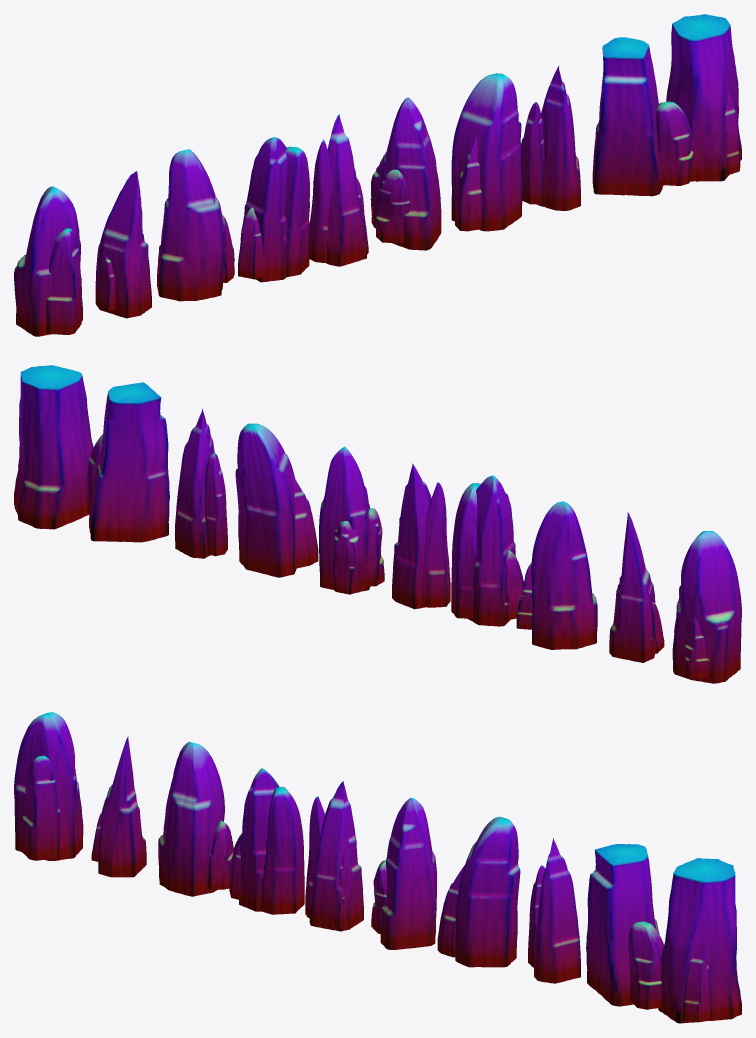
Rendered from mountains.glb.
3 views of the same model, one above another, from view 1: azimuth 30°, elevation 25°; view 2: azimuth 150°, elevation 25°; view 3: azimuth 330°, elevation 25° (orthographic).
Visible parts, largest first — view 1: mesa_0, peak_6, mesa_1, peak_2, peak_3, peak_0, peak_5, peak_4, peak_7, peak_1; view 2: mesa_0, mesa_1, peak_6, peak_3, peak_0, peak_2, peak_5, peak_4, peak_7, peak_1; view 3: mesa_1, mesa_0, peak_6, peak_2, peak_0, peak_3, peak_5, peak_4, peak_7, peak_1.
Part boxes in pixels (x1,y1,x2,y2): mesa_0: (592,37,693,196); peak_6: (451,73,522,231); mesa_1: (666,14,741,181); peak_2: (157,149,234,301); peak_3: (238,137,309,282); peak_0: (14,186,82,336); peak_5: (370,97,441,250); peak_4: (309,114,368,266); peak_7: (521,65,580,210); peak_1: (95,171,151,318); mesa_0: (87,382,169,542); mesa_1: (14,365,93,529); peak_6: (235,423,318,577); peak_3: (451,475,523,626); peak_0: (672,531,741,683); peak_2: (516,501,597,649); peak_5: (319,446,384,594); peak_4: (392,463,450,609); peak_7: (175,408,227,558); peak_1: (609,512,664,662); mesa_1: (658,858,741,1023); mesa_0: (586,844,663,1009); peak_6: (437,816,520,967); peak_2: (158,741,233,896); peak_0: (14,712,83,860); peak_3: (229,768,304,914); peak_5: (371,797,436,949); peak_4: (305,781,363,931); peak_7: (528,838,580,983); peak_1: (91,736,146,877).
Size of the model in its own units: 593 by 108 by 64.12.
